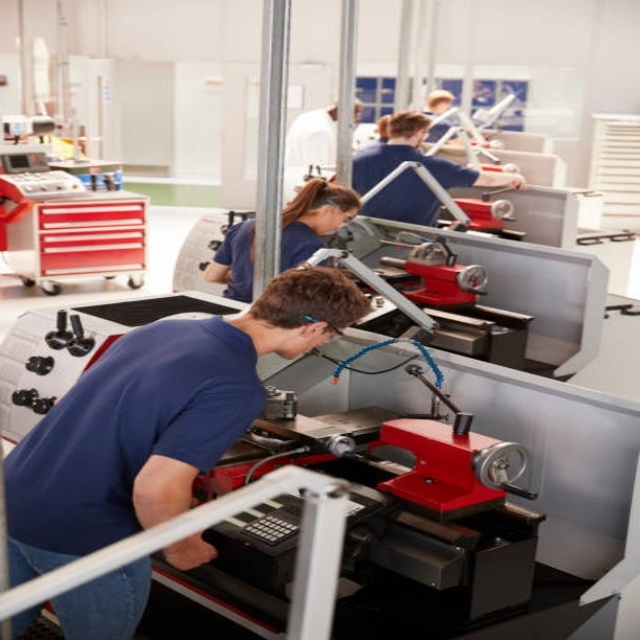Gafas: (301, 313, 346, 338), (327, 199, 356, 221)
